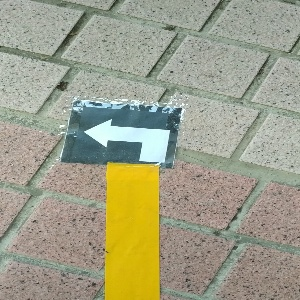left: (62, 100, 184, 166)
